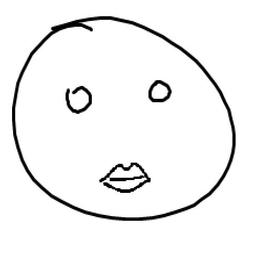cupid_mouth: (93, 158, 157, 198)
empty_eye: (58, 80, 99, 120), (139, 75, 177, 109)
